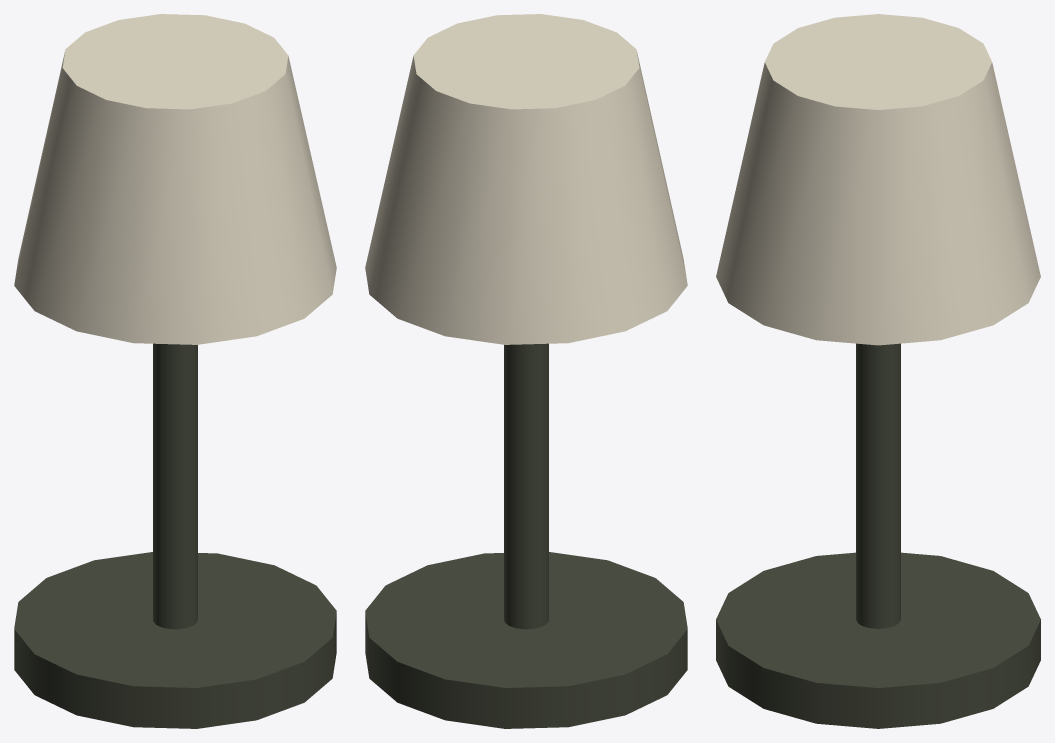
The model's file is lamp.glb.
The picture shows the model from 3 angles, left to right: view 1: azimuth 30°, elevation 25°; view 2: azimuth 150°, elevation 25°; view 3: azimuth 270°, elevation 25°; orthographic projection.
Parts seen in each view (by area): view 1: REF-L06-R01-lamp-part-3, REF-L06-R01-lamp-part-1, REF-L06-R01-lamp-part-2; view 2: REF-L06-R01-lamp-part-3, REF-L06-R01-lamp-part-1, REF-L06-R01-lamp-part-2; view 3: REF-L06-R01-lamp-part-3, REF-L06-R01-lamp-part-1, REF-L06-R01-lamp-part-2.
Boxes of the visible parts, x1,y1,x2,y2 form: REF-L06-R01-lamp-part-3: (14, 14, 336, 344); REF-L06-R01-lamp-part-1: (14, 552, 336, 728); REF-L06-R01-lamp-part-2: (153, 343, 197, 629); REF-L06-R01-lamp-part-3: (365, 14, 687, 344); REF-L06-R01-lamp-part-1: (365, 552, 687, 728); REF-L06-R01-lamp-part-2: (504, 343, 548, 629); REF-L06-R01-lamp-part-3: (716, 14, 1040, 345); REF-L06-R01-lamp-part-1: (716, 552, 1040, 728); REF-L06-R01-lamp-part-2: (856, 343, 900, 628).
Size of the model in its own units: 0.072 by 0.1462 by 0.072.
